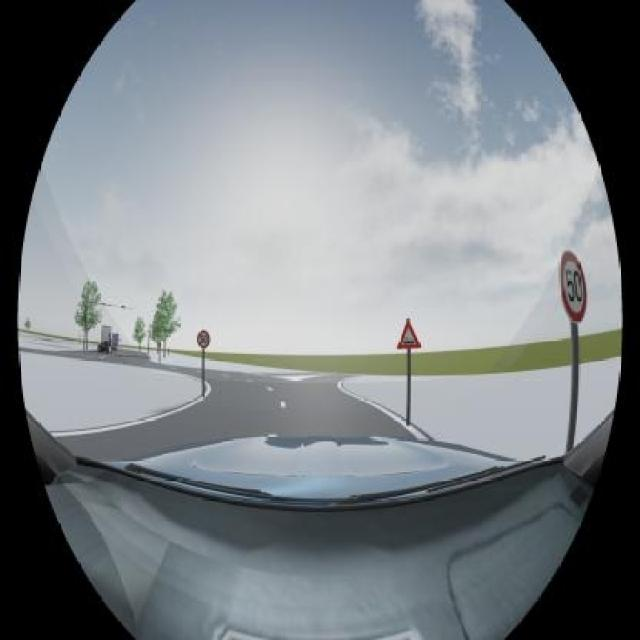forb_speed_over_50: (198, 328, 210, 350)
